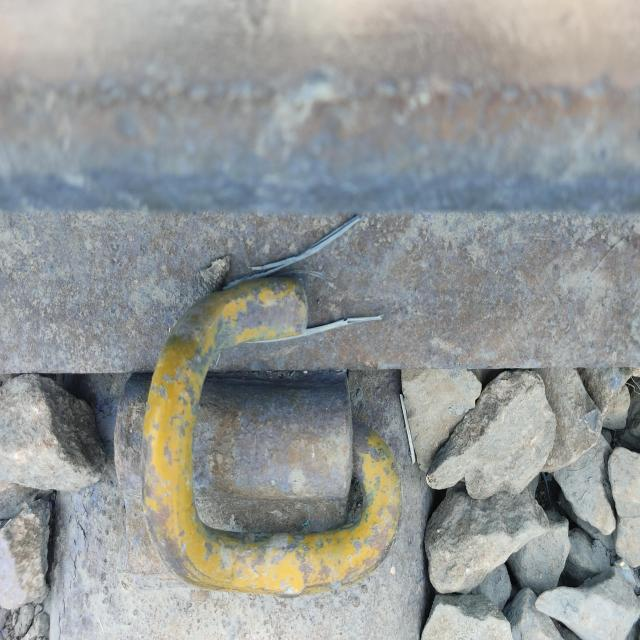Good Fasteners: (143, 277, 401, 595)
